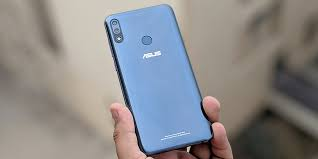asus: (97, 2, 216, 151)
